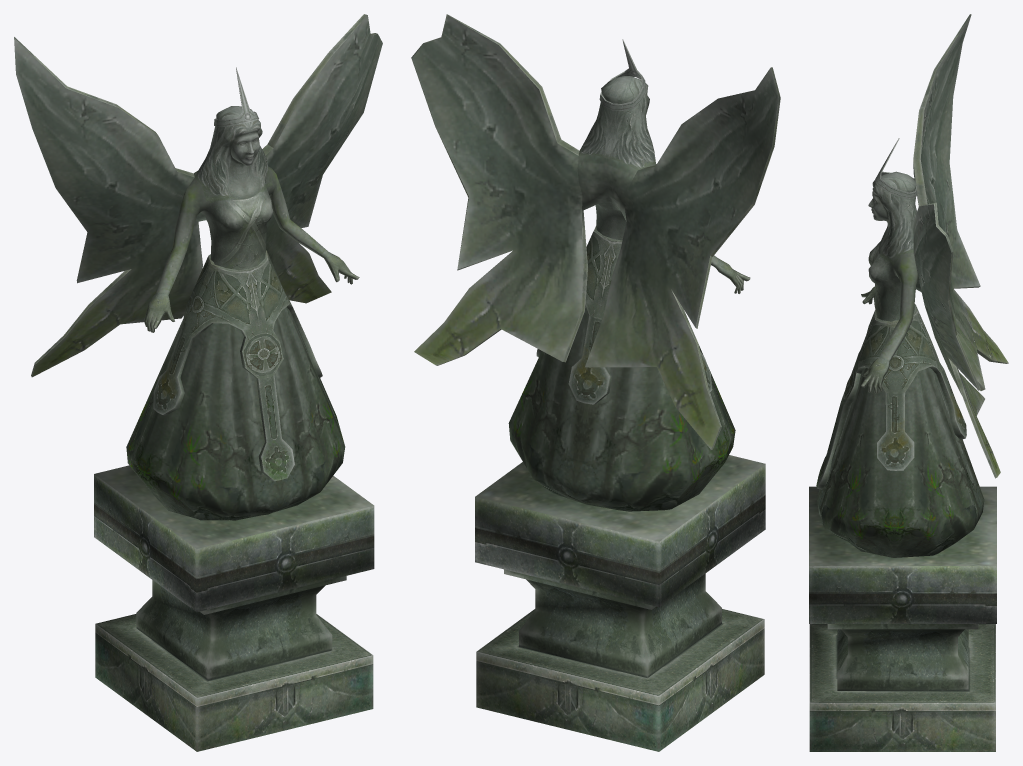
File: angel.obj
3 renders of one model, left to right at view 1: azimuth 30°, elevation 25°; view 2: azimuth 150°, elevation 25°; view 3: azimuth 270°, elevation 25°, orthographic. The views are drawn at different scales.
Parts seen in each view (by area): view 1: Monument_angels; view 2: Monument_angels; view 3: Monument_angels.
Boxes of the visible parts, x1,y1,x2,y2 form: Monument_angels: [14, 14, 382, 751]; Monument_angels: [411, 14, 780, 751]; Monument_angels: [809, 14, 1008, 751].
Size of the model in its own units: 170 by 302 by 88.88.
